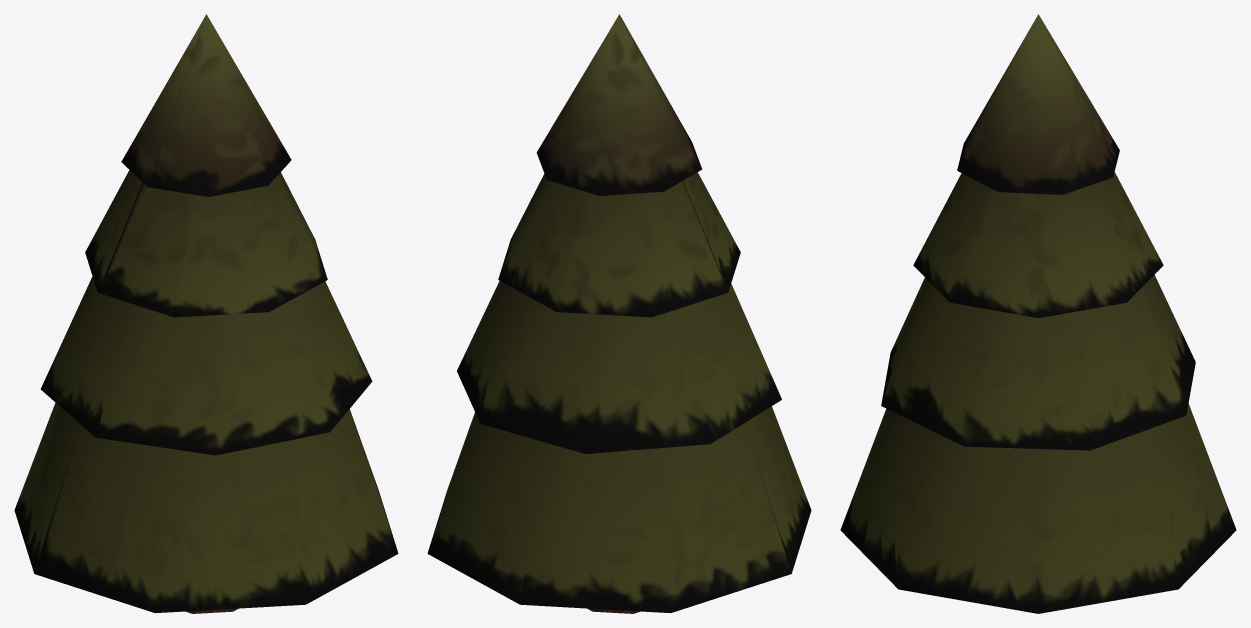
Rendered from Tree2.fbx.
3 renders of one model, left to right at view 1: azimuth 30°, elevation 25°; view 2: azimuth 150°, elevation 25°; view 3: azimuth 270°, elevation 25°, orthographic.
Visible parts, largest first — view 1: tree2; view 2: tree2; view 3: tree2.
Part boxes in pixels (x1=…): tree2: x1=14, y1=14, x2=398, y2=613; tree2: x1=427, y1=14, x2=811, y2=613; tree2: x1=840, y1=14, x2=1236, y2=613.
Size of the model in its own units: 327 by 524 by 327.
Materials: 1 (1 with a texture image).
